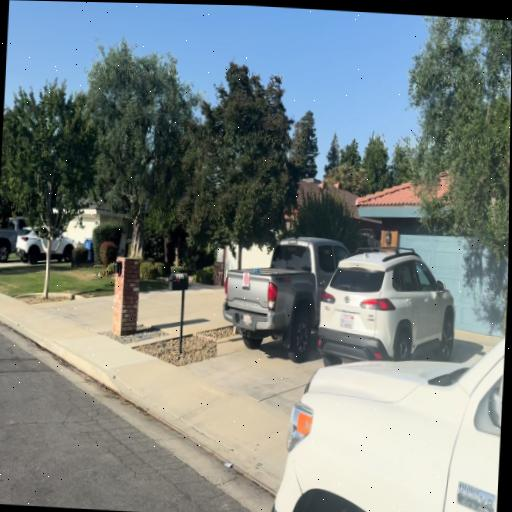bullseye: (243, 272, 249, 287)
